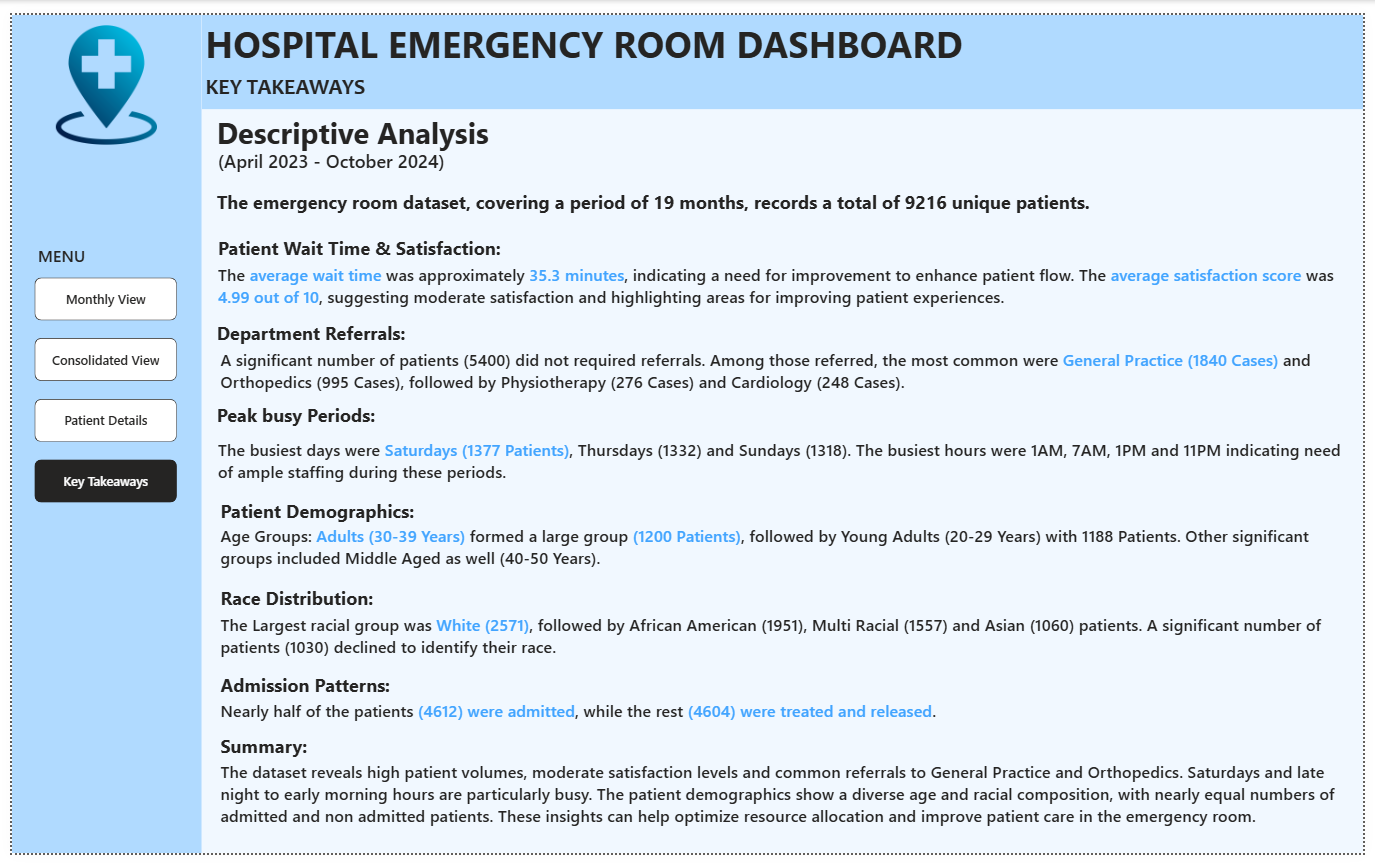

The page's visual inventory and layout, read from the dashboard file:
{"tool":"powerbi","page":{"name":"Key Takeaways","canvas":[1983,1230],"ordinal":3},"visuals":[{"type":"shape","box":[0,0,278.2,1230.9],"z":0},{"type":"shape","box":[278.2,0,1705.5,138.2],"z":1000},{"type":"textbox","box":[278.9,0,1252.4,94.2],"z":2000},{"type":"textbox","box":[278.9,80.7,326.6,56.9],"z":3000},{"type":"image","box":[20.2,14.7,236.7,176.1],"z":4000},{"type":"pageNavigator","box":[32.7,385.5,209.1,330.9],"z":5000},{"type":"textbox","box":[32.7,332.7,127.3,52.7],"z":6000},{"type":"textbox","box":[294.5,138.2,523.6,76.4],"z":7000},{"type":"textbox","box":[296.4,190.9,374.5,47.3],"z":8000},{"type":"textbox","box":[294.5,250.9,1607.3,50.9],"z":9000},{"type":"textbox","box":[294.5,443.6,1347.3,52.7],"z":10000},{"type":"textbox","box":[296.4,360,1665.5,85.5],"z":11000},{"type":"textbox","box":[296.4,320,1347.3,52.7],"z":12000},{"type":"textbox","box":[294.5,563.6,1347.3,52.7],"z":13000},{"type":"textbox","box":[300,703.6,1349.1,52.7],"z":14000},{"type":"textbox","box":[300,832.7,1349.1,52.7],"z":15000},{"type":"textbox","box":[300,960,1349.1,52.7],"z":16000},{"type":"textbox","box":[300,1049.1,1349.1,52.7],"z":17000},{"type":"textbox","box":[300,483.6,1665.5,80],"z":18000},{"type":"textbox","box":[296.4,616.4,1665.5,76.4],"z":19000},{"type":"textbox","box":[300,743.6,1665.5,90.9],"z":20000},{"type":"textbox","box":[300,872.7,1665.5,74.5],"z":21000},{"type":"textbox","box":[300,1000,1665.5,49.1],"z":22000},{"type":"textbox","box":[300,1089.1,1665.5,127.3],"z":23000}]}

Visuals, with their boxes in screenshot pixels (x1, y1, x2, y2), scaled from the page's 1983x1230 canvas onto the 1375x868 screenshot:
shape: locate(0, 0, 193, 867)
shape: locate(193, 0, 1374, 98)
textbox: locate(193, 0, 1062, 66)
textbox: locate(193, 57, 420, 97)
image: locate(14, 10, 178, 135)
pageNavigator: locate(23, 272, 168, 506)
textbox: locate(23, 235, 111, 272)
textbox: locate(204, 98, 567, 151)
textbox: locate(206, 135, 465, 168)
textbox: locate(204, 177, 1319, 213)
textbox: locate(204, 313, 1138, 350)
textbox: locate(206, 254, 1360, 314)
textbox: locate(206, 226, 1140, 263)
textbox: locate(204, 398, 1138, 435)
textbox: locate(208, 497, 1143, 534)
textbox: locate(208, 588, 1143, 625)
textbox: locate(208, 677, 1143, 715)
textbox: locate(208, 740, 1143, 778)
textbox: locate(208, 341, 1363, 398)
textbox: locate(206, 435, 1360, 489)
textbox: locate(208, 525, 1363, 589)
textbox: locate(208, 616, 1363, 668)
textbox: locate(208, 706, 1363, 740)
textbox: locate(208, 769, 1363, 858)
